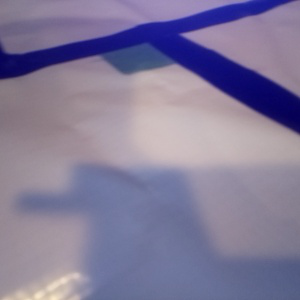bottom_left: (100, 37, 186, 74)
